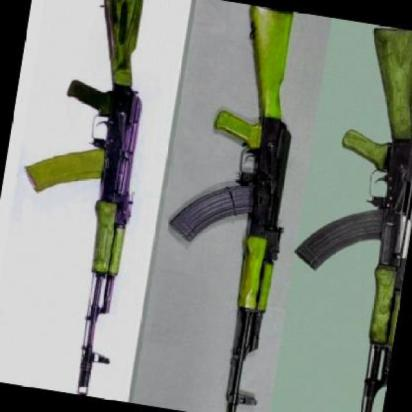Gun: (132, 0, 315, 412), (0, 0, 178, 400), (258, 15, 412, 412)
